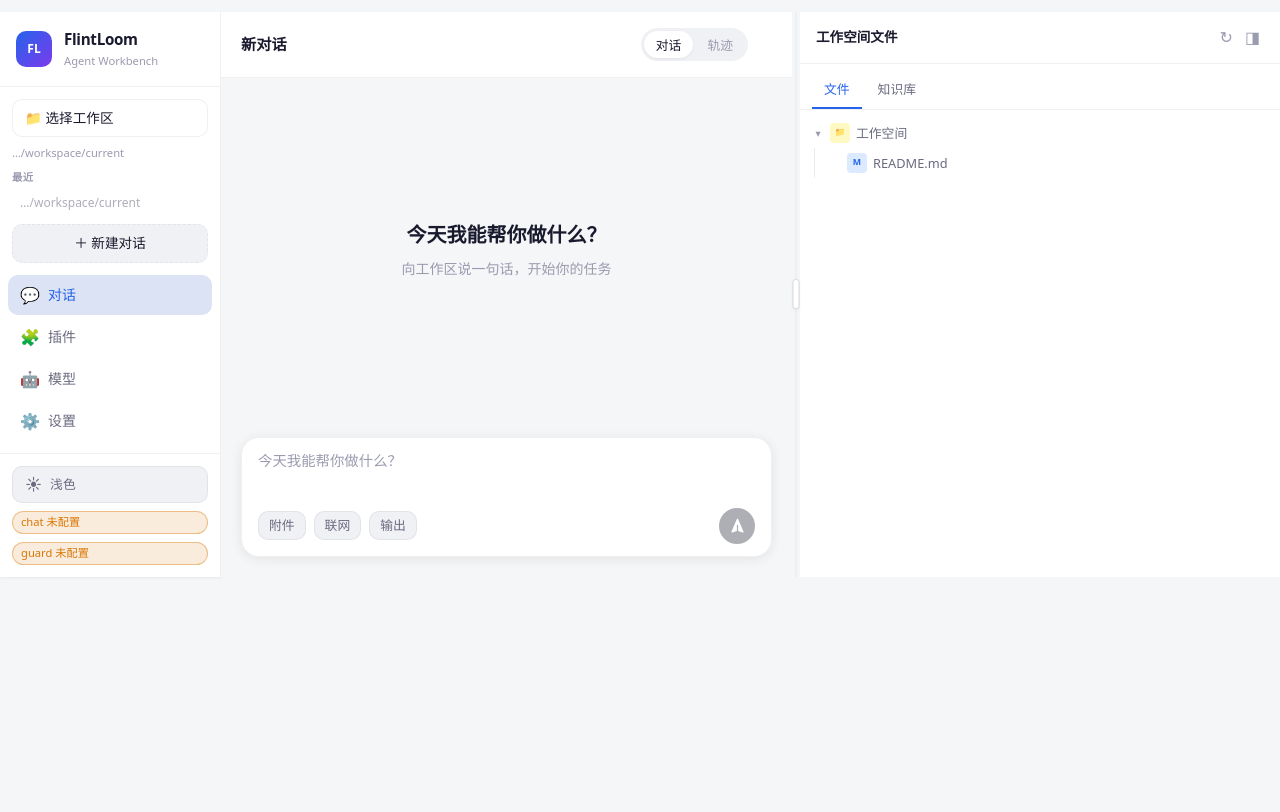
it: App › shows file context menu on right-click
Right-click the list item with class "file-label" at (910, 163), box [821,148,1276,178]
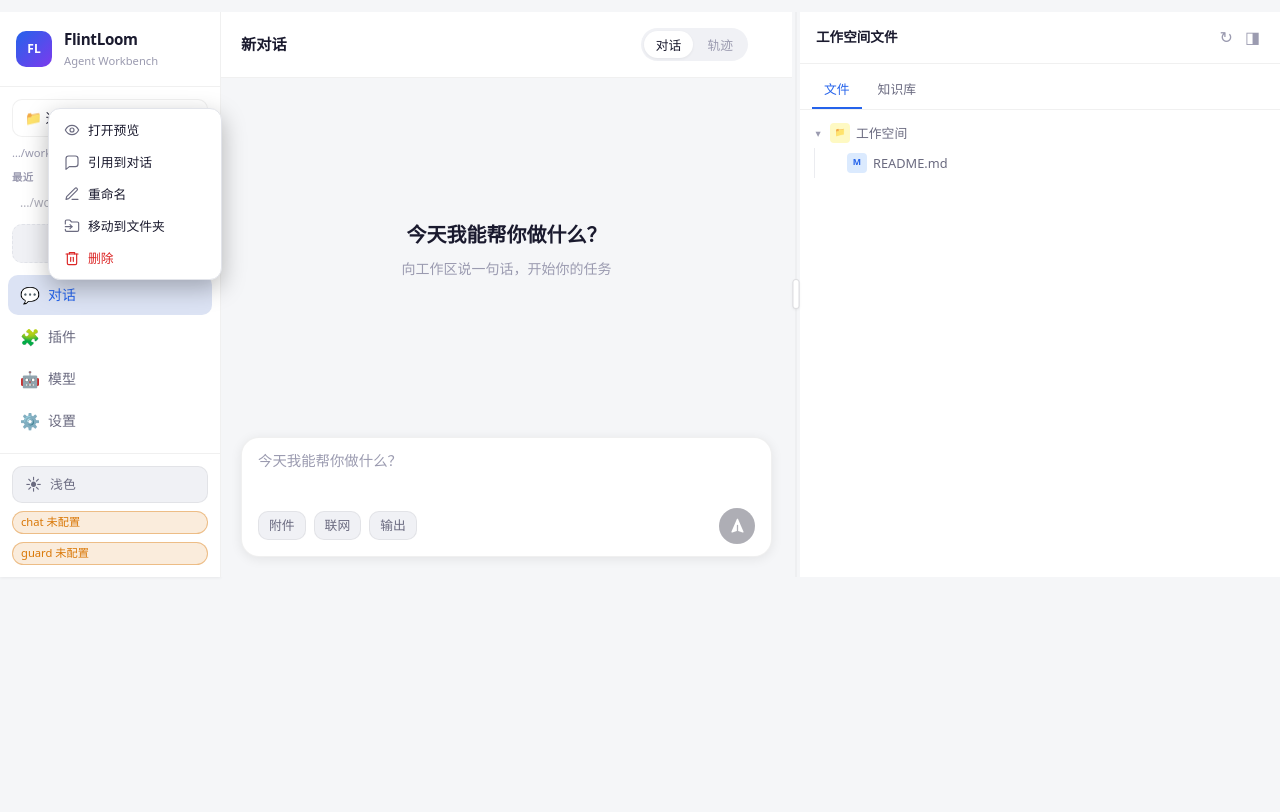
Expected: the menu item "打开预览" is shown, [55,115,215,145]
Expected: the menu item "重命名" is shown, [55,179,215,209]
Expected: the menu item "移动到文件夹" is shown, [55,211,215,241]
